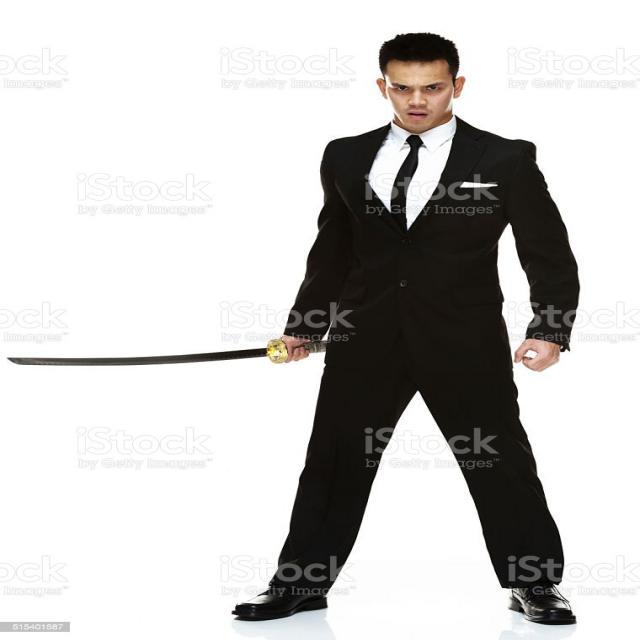long sword: (9, 333, 325, 372)
